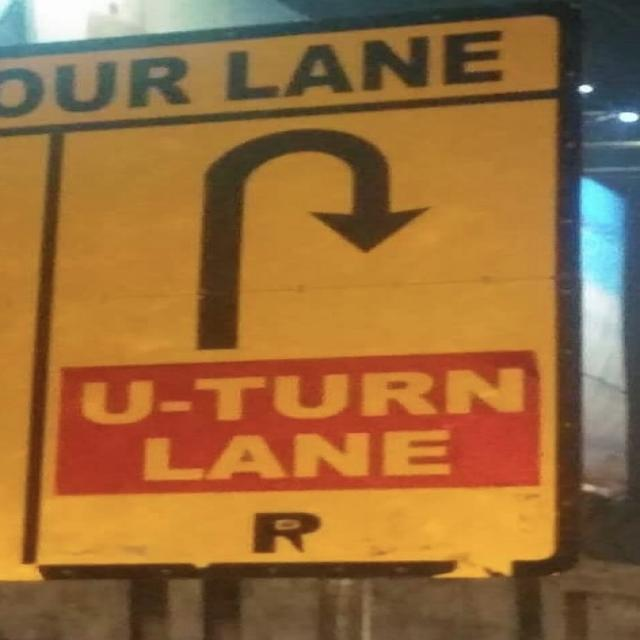u turn: (58, 116, 549, 352)
